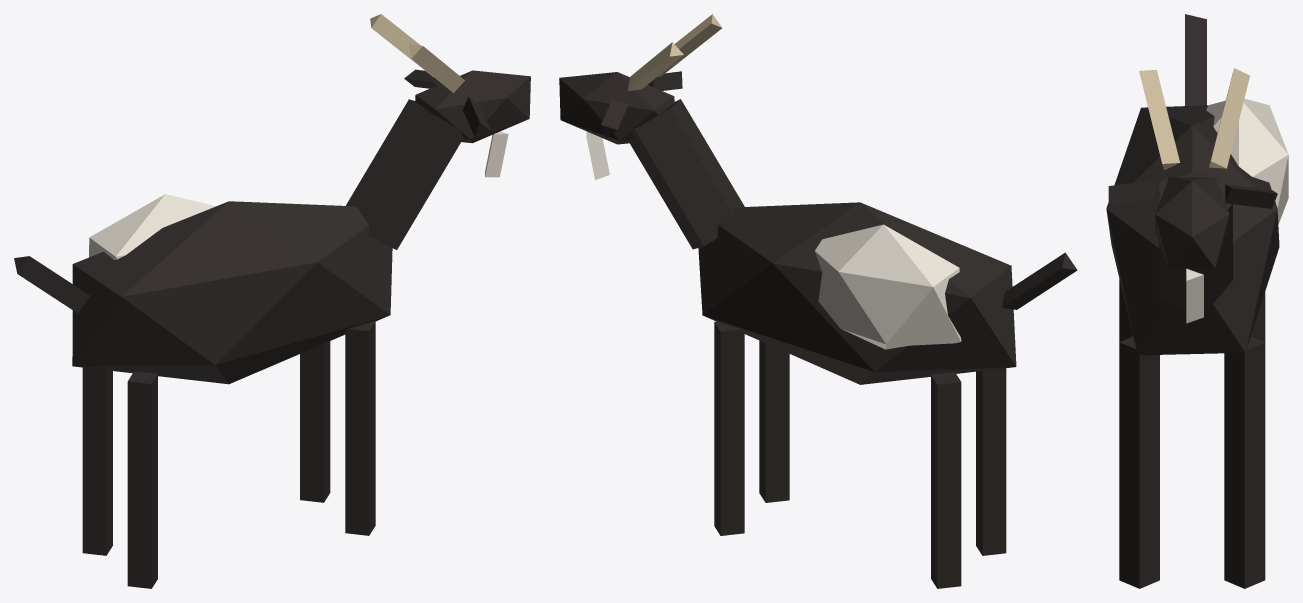
The model's file is get_1.glb.
3 renders of one model, left to right at view 1: azimuth 30°, elevation 25°; view 2: azimuth 150°, elevation 25°; view 3: azimuth 270°, elevation 25°, orthographic. The views are drawn at different scales.
Visible parts, largest first — view 1: get_1; view 2: get_1; view 3: get_1.
Part boxes in pixels (x1,y1,x2,y2): get_1: (14, 14, 530, 588); get_1: (559, 14, 1077, 588); get_1: (1106, 14, 1288, 588).
Bounding box in the file's own units: 1.19 × 1.03 × 0.3121.
